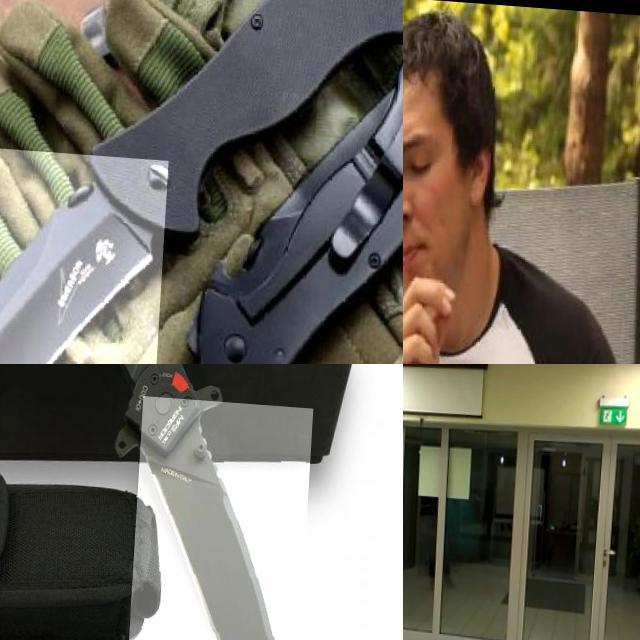-: (130, 390, 317, 640), (0, 140, 172, 364), (403, 267, 442, 364)
gun-knife-thesis - v11 Yolov5 augmented: (403, 501, 423, 546)
